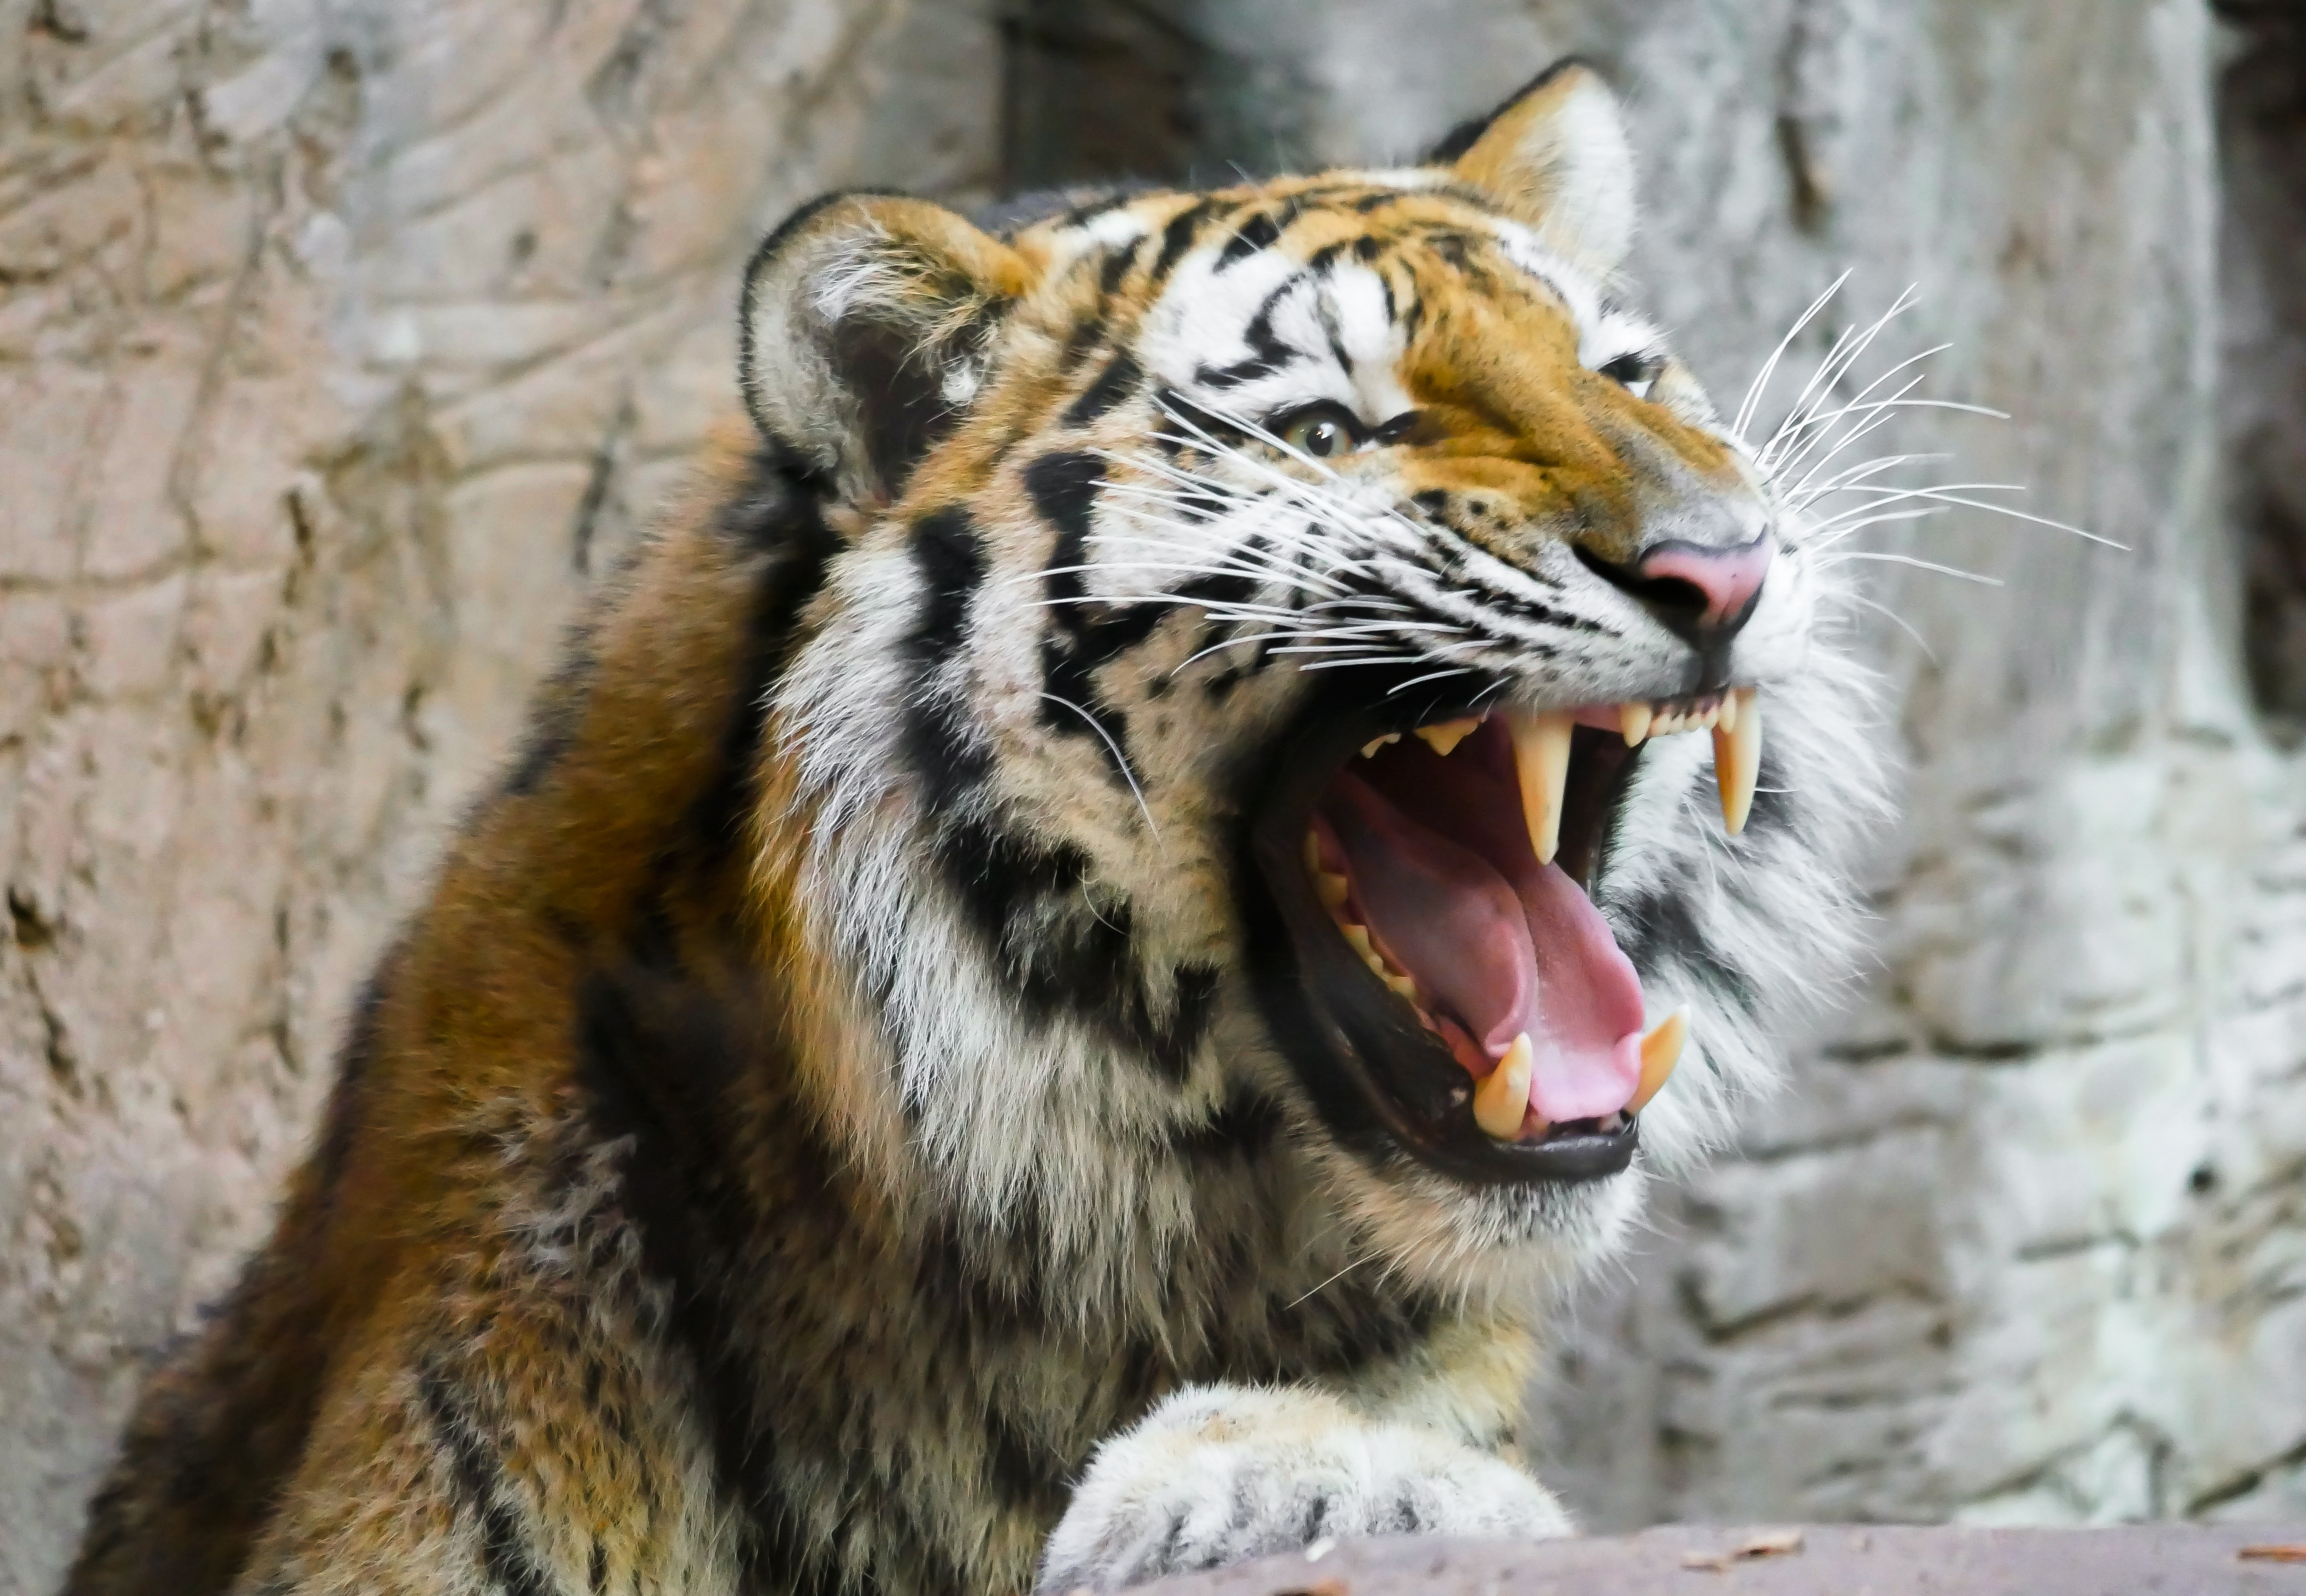tiger: (321, 53, 1991, 1496)
